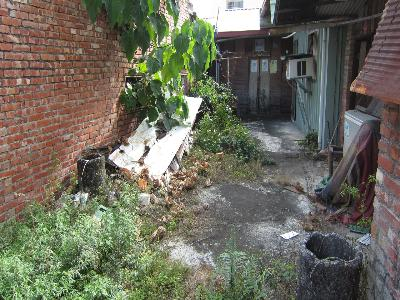bucket: (293, 230, 365, 300), (74, 153, 109, 199)
plastic_bag: (315, 120, 379, 226)
